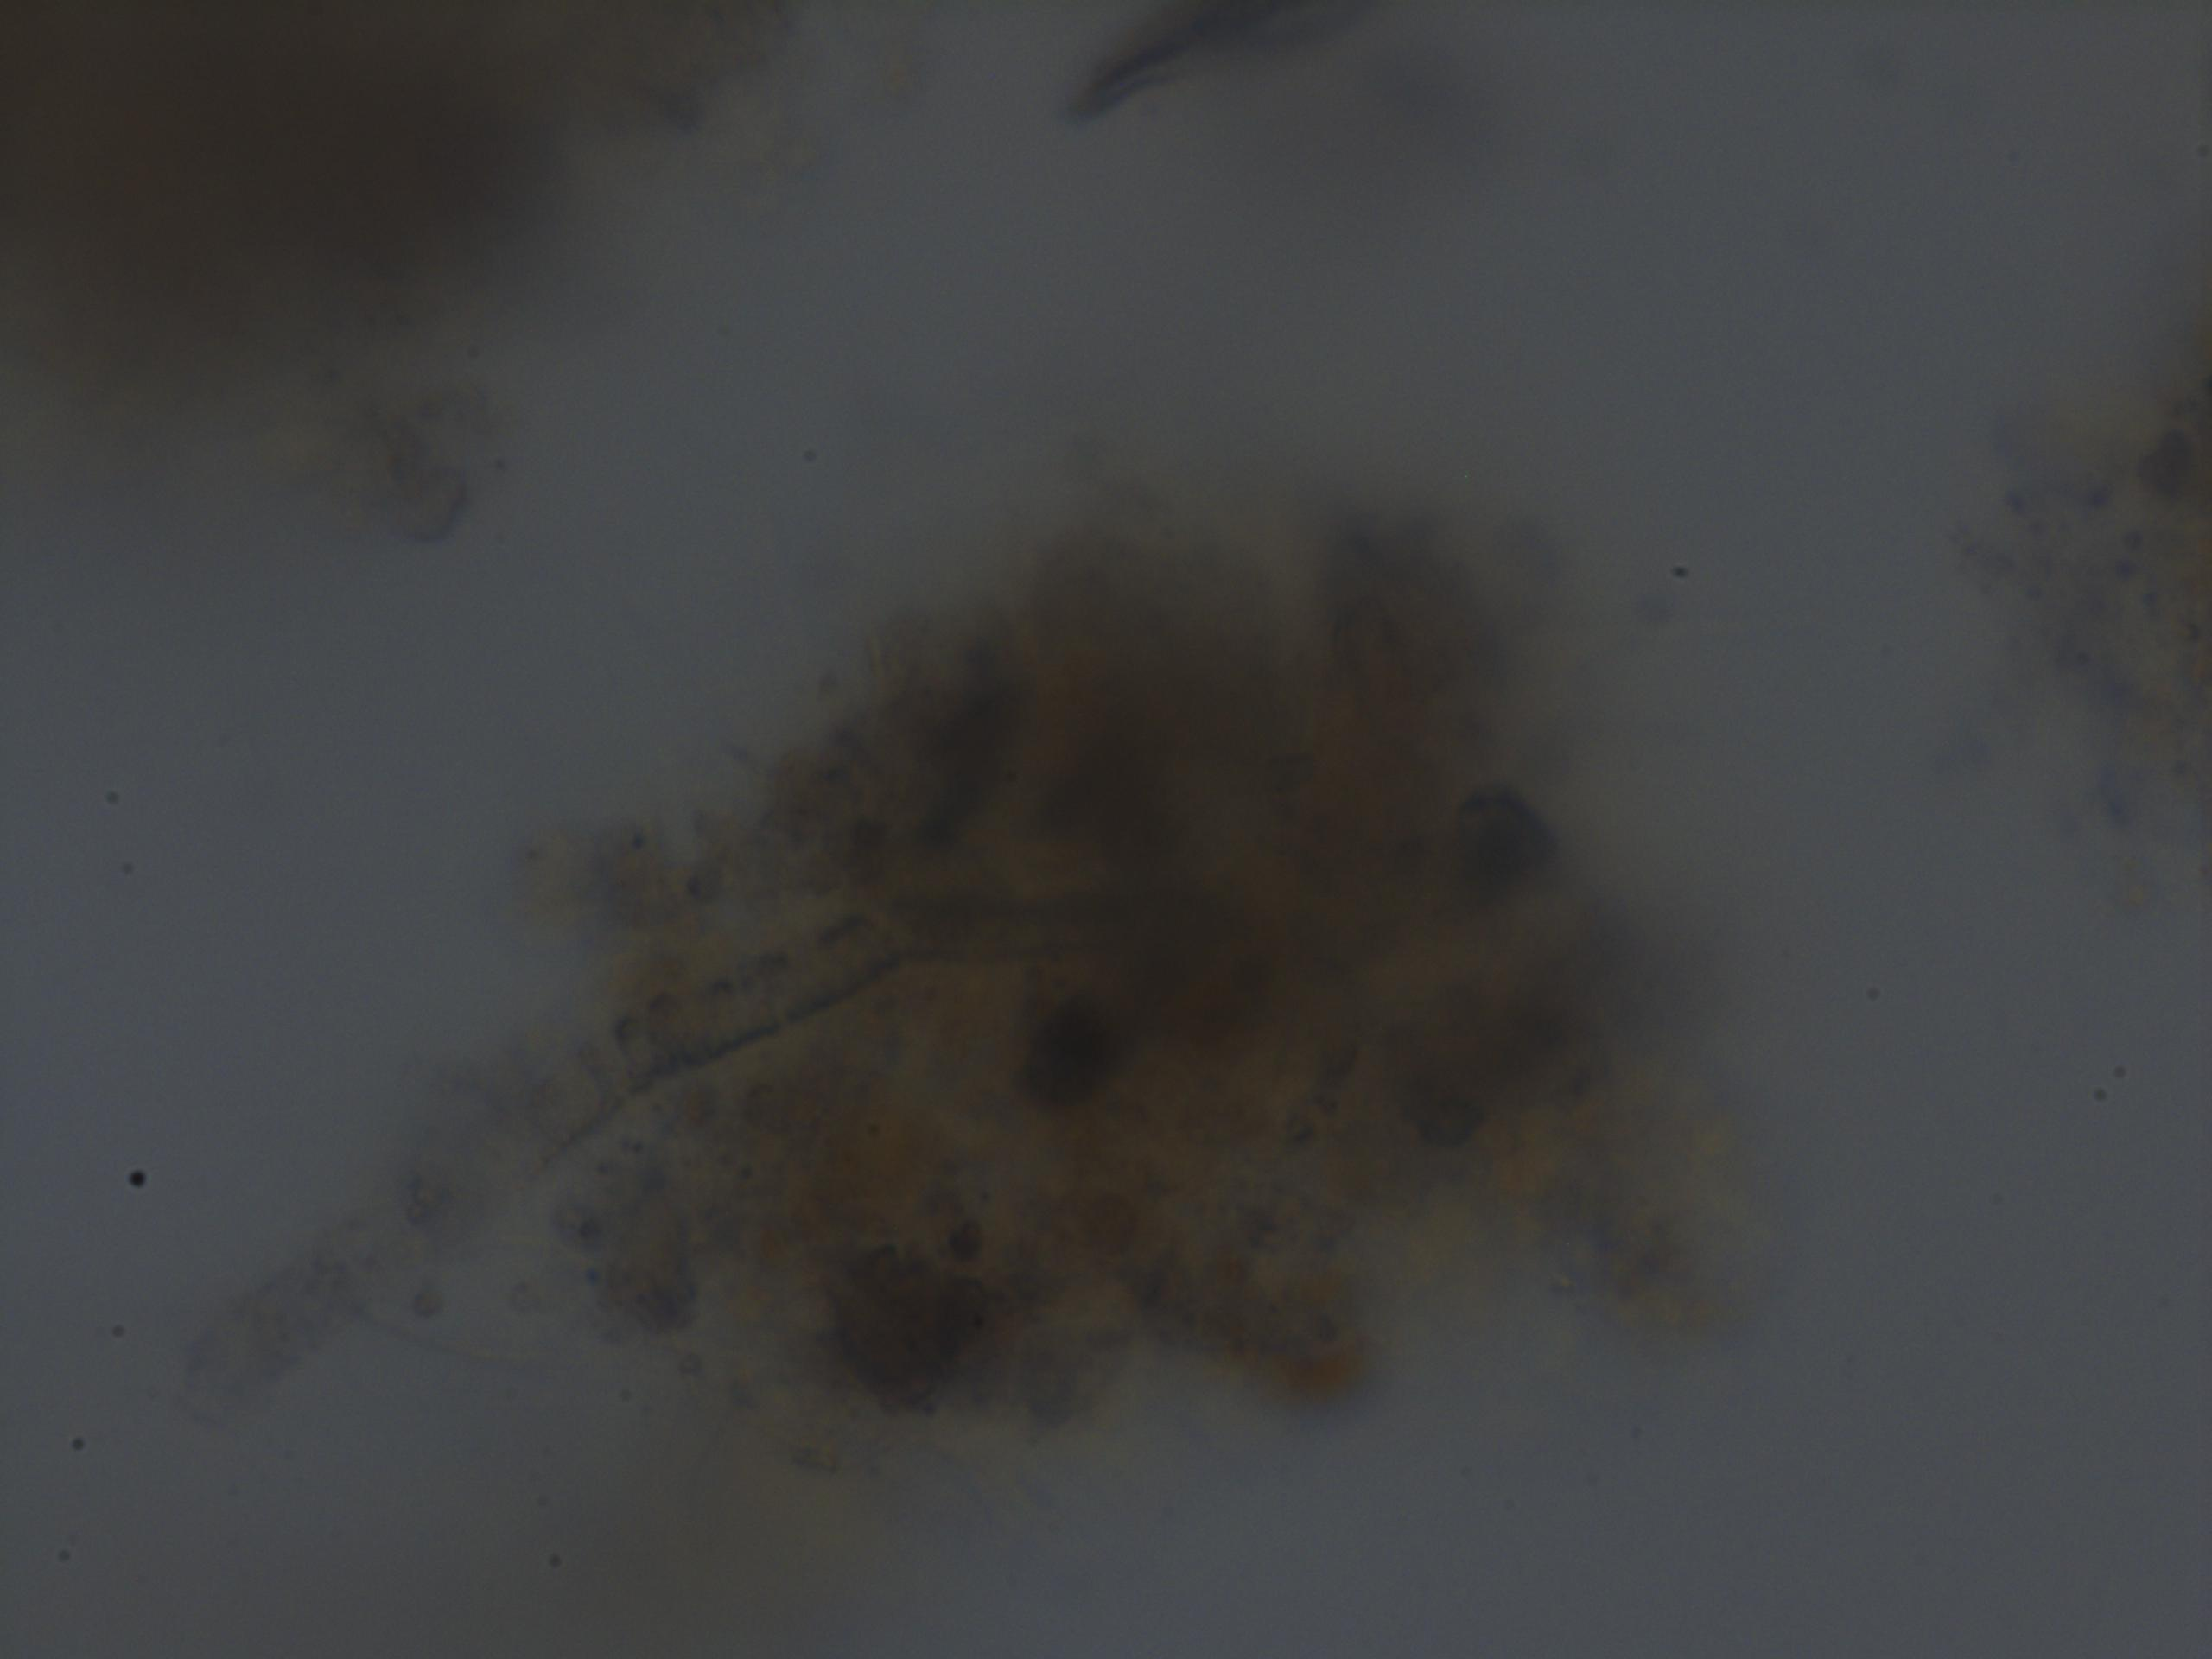filament: (188, 791, 1197, 1478)
spherical_floc: (521, 450, 1717, 1478)
